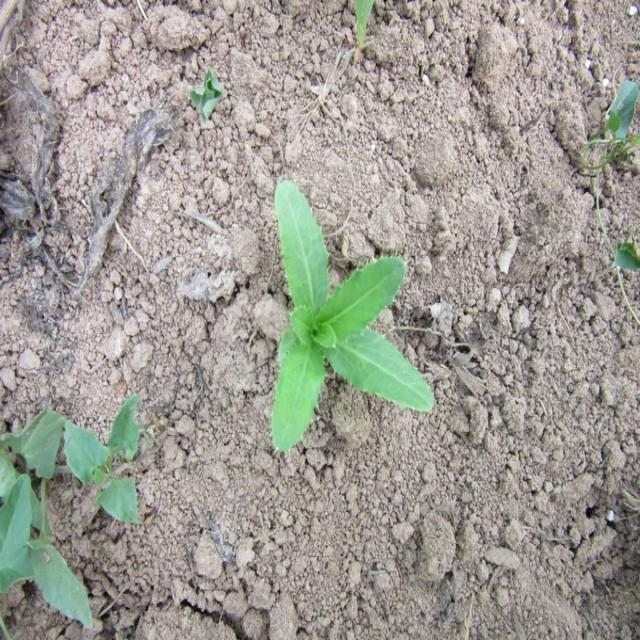field_thistle: (217, 156, 425, 437)
